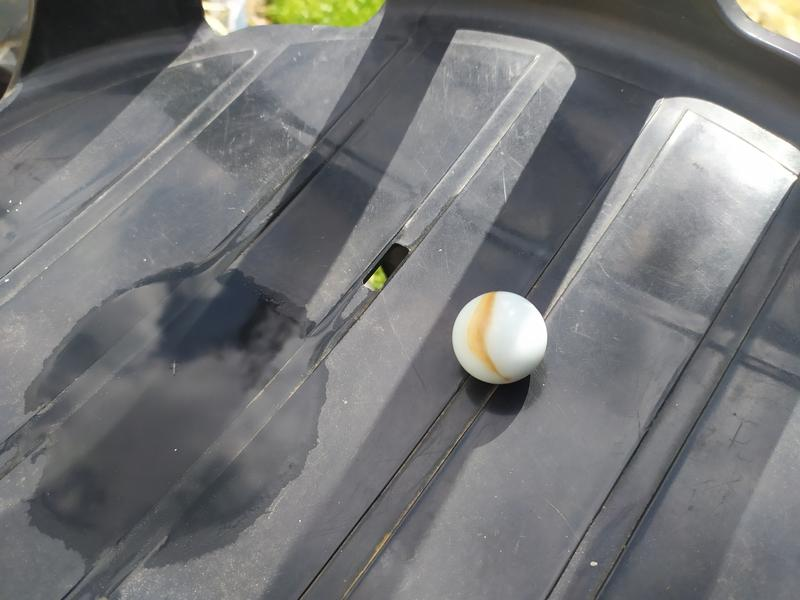Warning: (450, 288, 550, 388)
